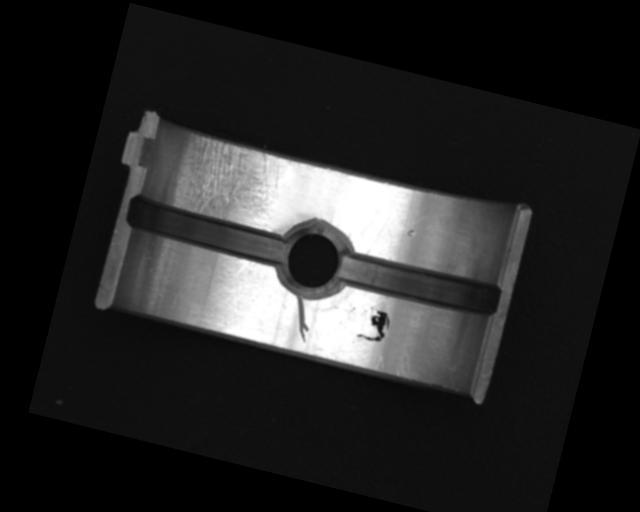blot: (354, 305, 394, 345)
bruise: (404, 227, 418, 240)
gap: (332, 242, 503, 324), (122, 193, 288, 268)
hole: (270, 214, 359, 304)
nick: (286, 294, 318, 344), (234, 257, 253, 278)
scratch: (162, 130, 291, 231)
